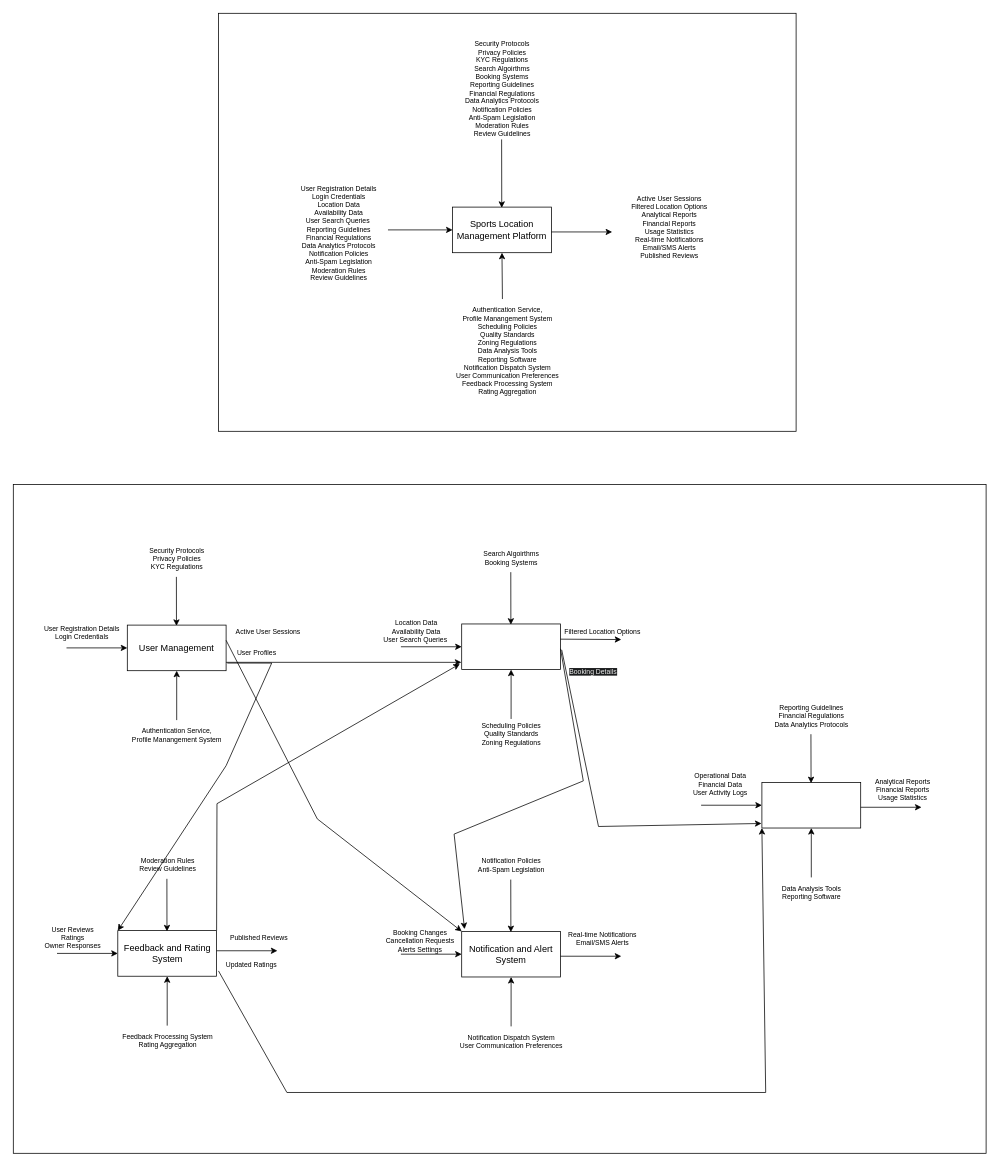
Image size: 999x1167. Some labels were removed from this diagram. Here are the shapes that lost their labels. From the top down, the centre of each, then its label:
At (x=510, y=646): "Location Services".
At (x=811, y=805): "Reporting and Administration".
